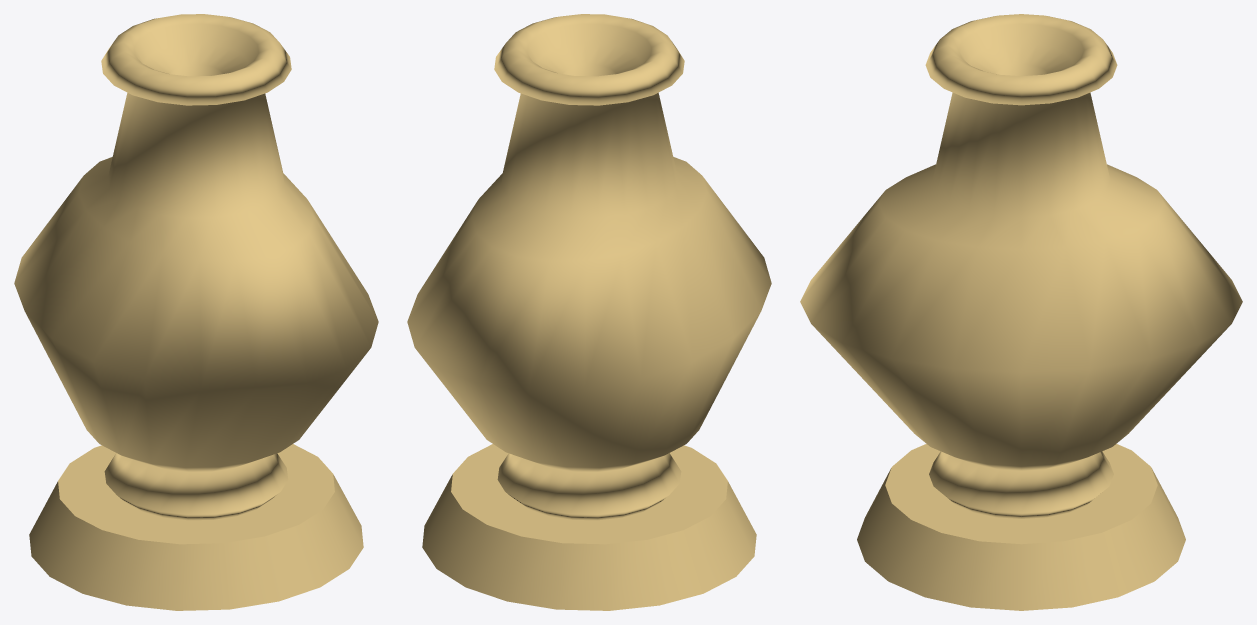
Rendered from Pottery 5.fbx.
The picture shows the model from 3 angles, left to right: view 1: azimuth 30°, elevation 25°; view 2: azimuth 150°, elevation 25°; view 3: azimuth 270°, elevation 25°; orthographic projection.
Parts seen in each view (by area): view 1: pCylinder1.001; view 2: pCylinder1.001; view 3: pCylinder1.001.
Part boxes in pixels (left/top/right/bottom): pCylinder1.001: left=14, top=14, right=378, bottom=610; pCylinder1.001: left=407, top=14, right=771, bottom=610; pCylinder1.001: left=800, top=14, right=1242, bottom=610.
Bounding box in the file's own units: 13315 × 21504 × 17451.
